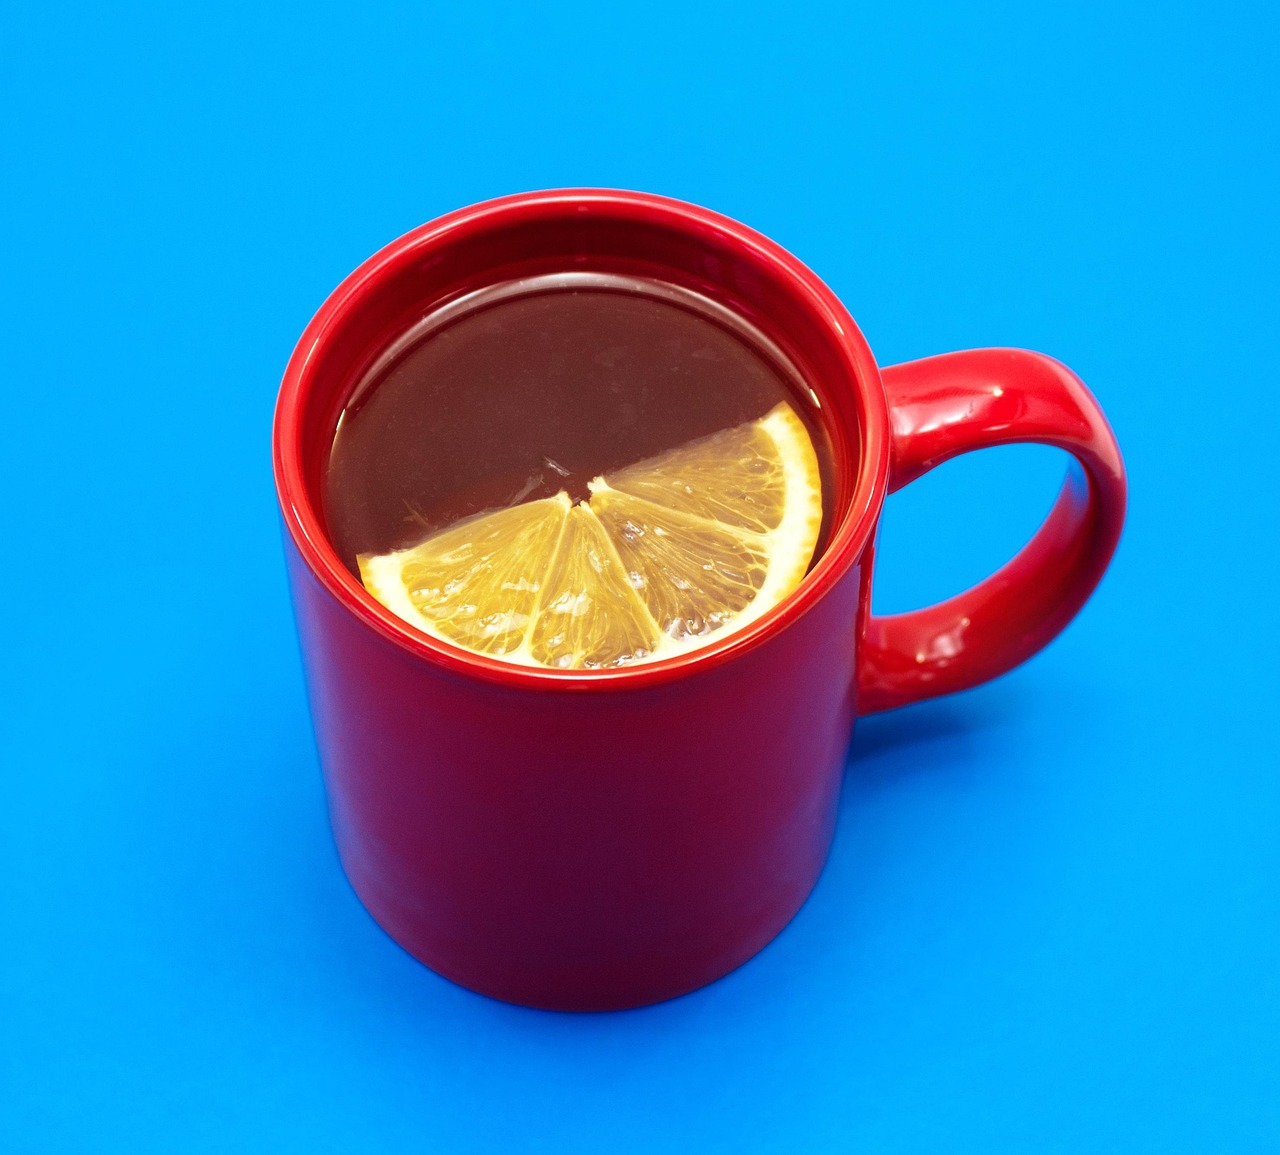mug: (184, 140, 1280, 1036)
